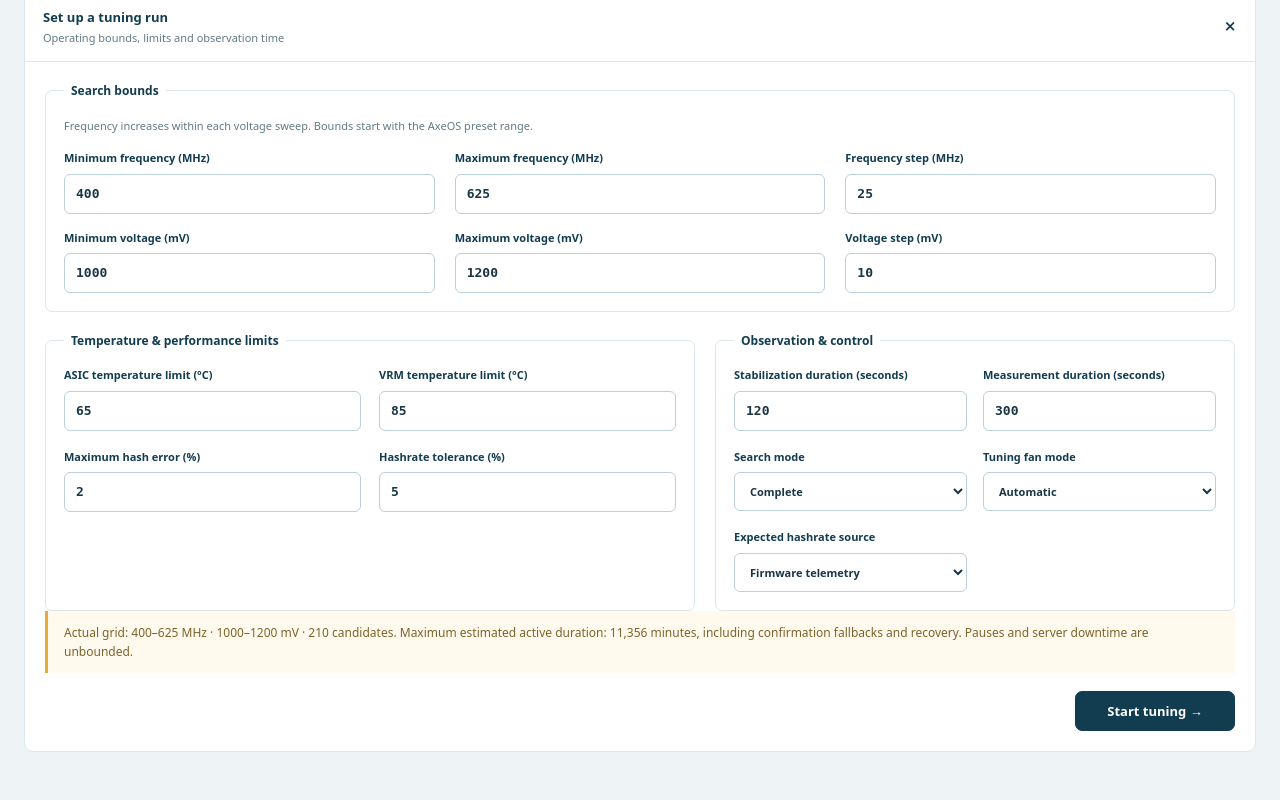
it: configured frequency acknowledgement › does not offer a bypass for other missing telemetry
(page scrolled)
Click the button "Start tuning →".
click(1155, 711)  # box [1075,691,1235,731]
(page scrolled)
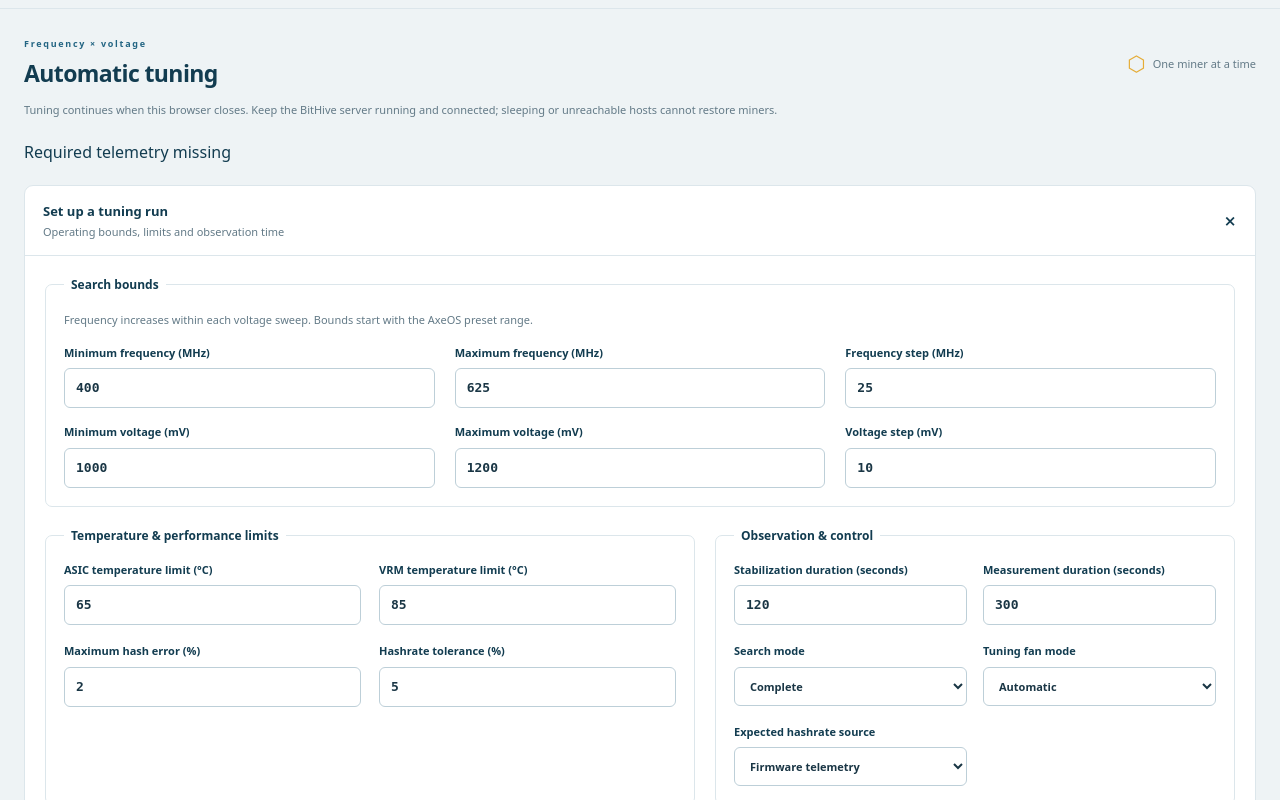
Now the message "Required telemetry missing" is shown, box [24,140,231,162]
